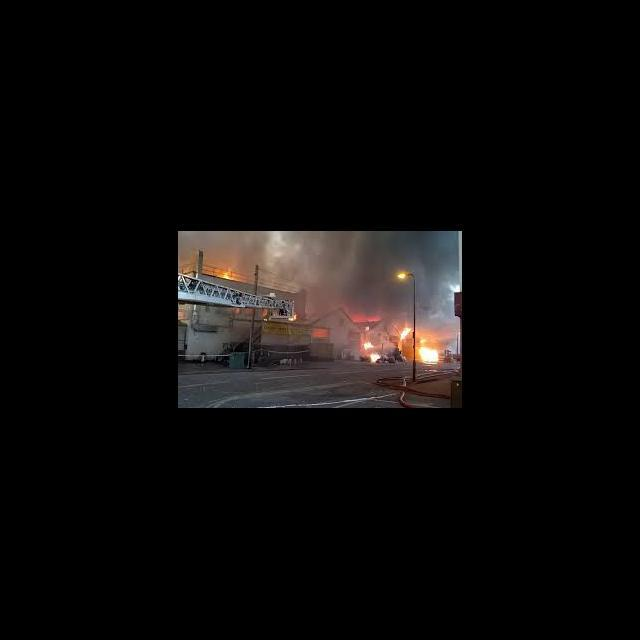Fire: (417, 334, 443, 366), (349, 310, 384, 324), (218, 266, 234, 282), (397, 327, 413, 342), (364, 352, 382, 365), (360, 340, 373, 351)
Smoke: (270, 236, 388, 304), (180, 234, 267, 262)
